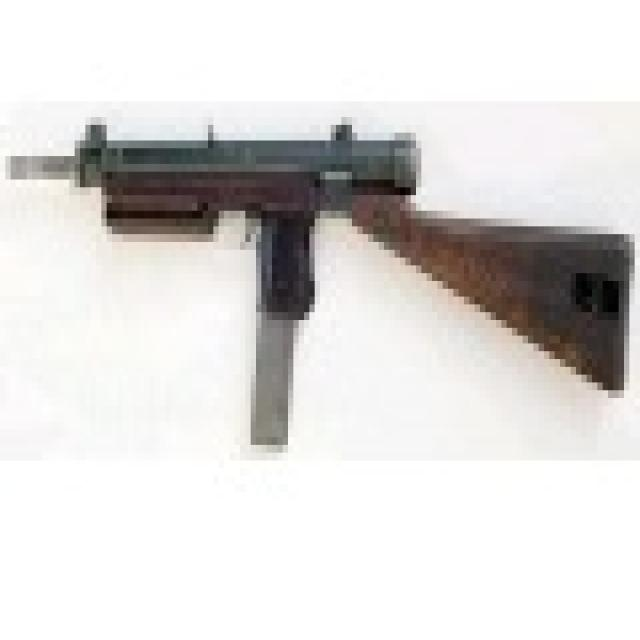Gun: (26, 85, 640, 468)
